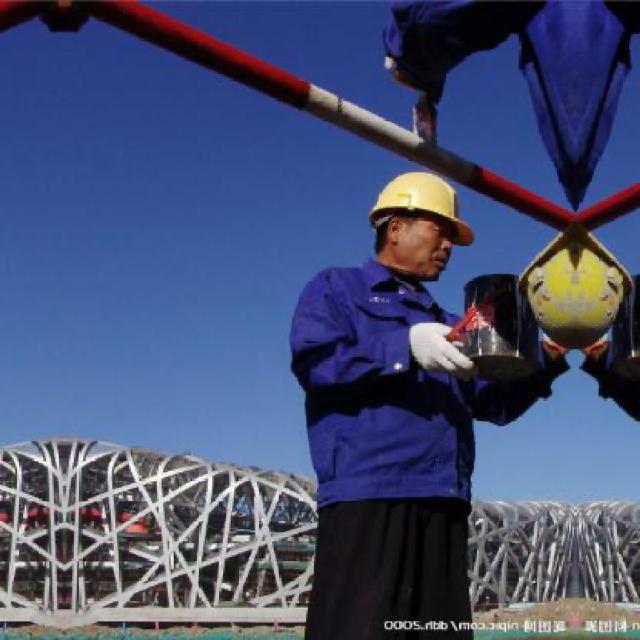helmet: (352, 163, 477, 285)
